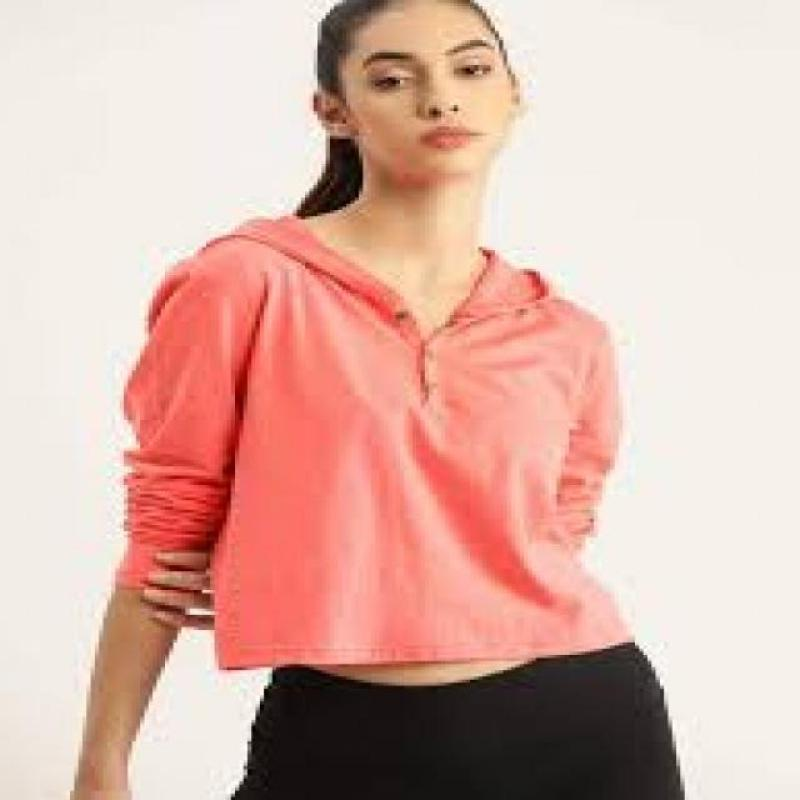sweater: (111, 217, 638, 674)
trousers: (230, 639, 687, 800)
